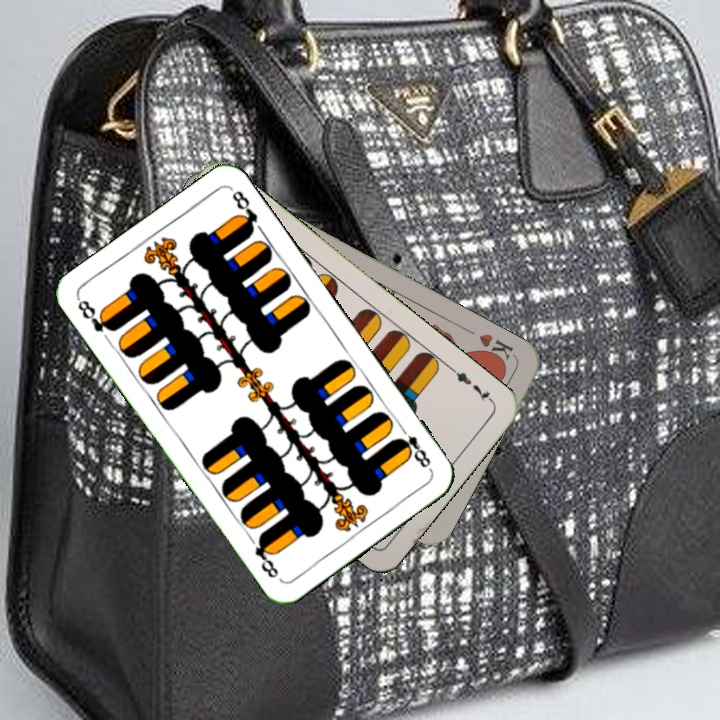E7: (446, 362, 496, 405)
E8: (392, 422, 435, 474), (73, 295, 119, 336)
HK: (474, 329, 518, 367)
